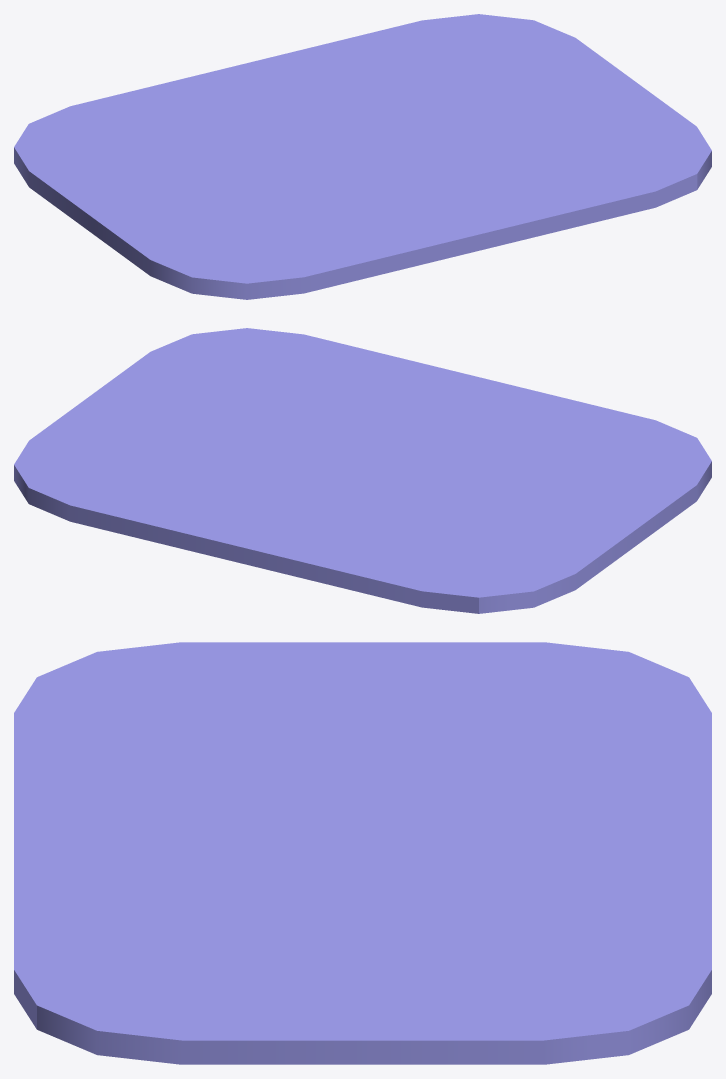
The model's file is bathroom-rug-transformed.glb.
3 renders of one model, top to bottom at view 1: azimuth 30°, elevation 25°; view 2: azimuth 150°, elevation 25°; view 3: azimuth 270°, elevation 25°, orthographic. The views are drawn at different scales.
Parts seen in each view (by area): view 1: Rectangle 9.001; view 2: Rectangle 9.001; view 3: Rectangle 9.001.
Part boxes in pixels (box(x1,y1,x2,y2)): Rectangle 9.001: box(14, 14, 711, 299); Rectangle 9.001: box(14, 328, 711, 613); Rectangle 9.001: box(14, 642, 711, 1064).
Size of the model in its own units: 1.41 by 0.04 by 1.04.
